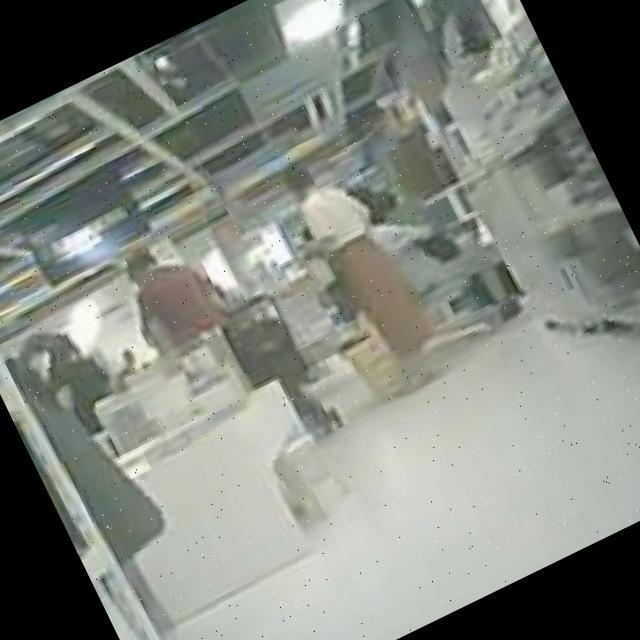person: (262, 145, 453, 406), (105, 225, 236, 366)
